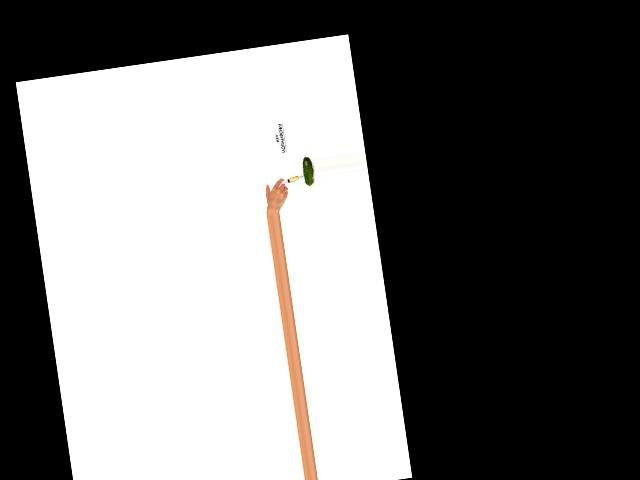cucumber: (301, 156, 315, 187)
